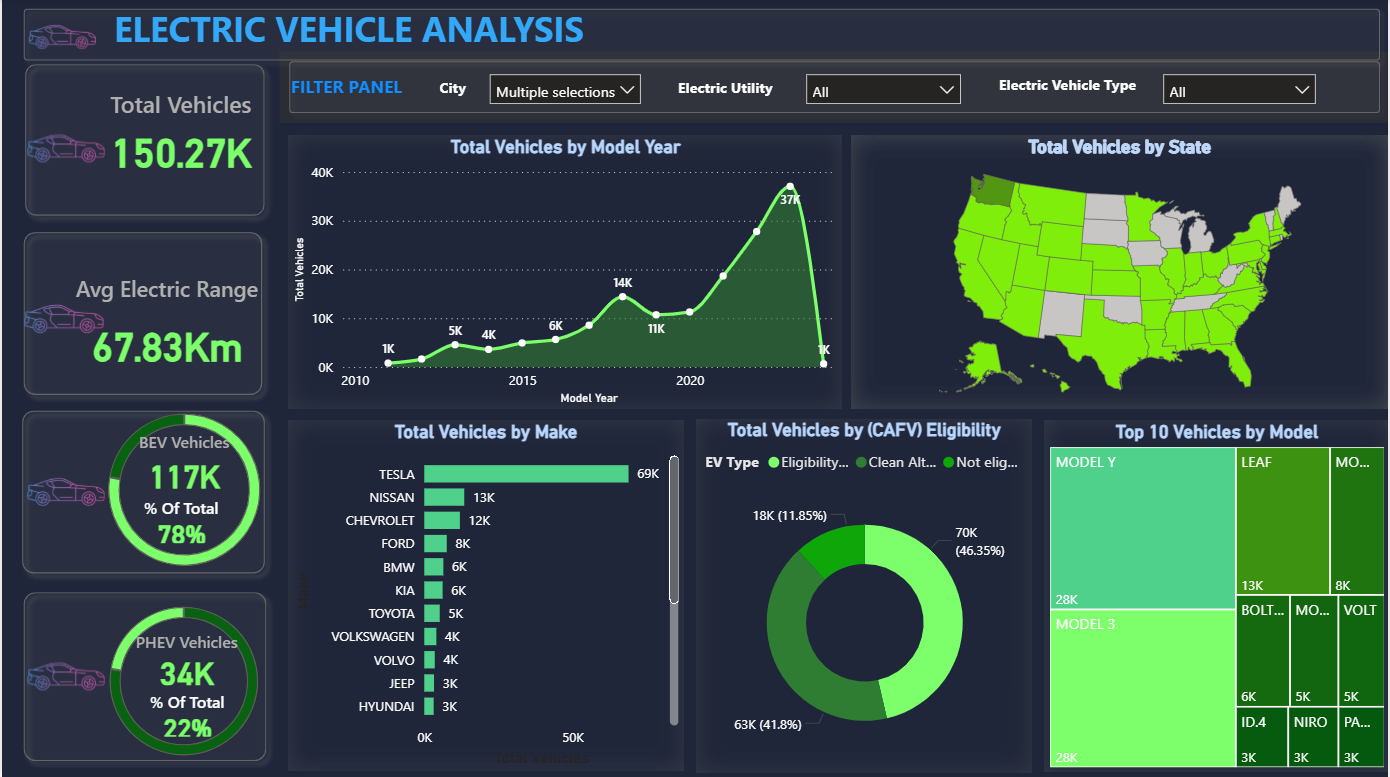

This screenshot's page, from the dashboard's own definition file:
{"tool":"powerbi","page":{"name":"Page 1","canvas":[1280,720],"ordinal":0},"visuals":[{"type":"shape","box":[11.3,206,238.1,168.2],"z":1000},{"type":"shape","box":[11.3,538.6,241.9,173.9],"z":2000},{"type":"shape","box":[9.4,370.4,241.9,168.2],"z":3000},{"type":"shape","box":[12.3,50.6,239,157.8],"z":4000},{"type":"shape","box":[255.8,49,1024.9,65.9],"z":5000},{"type":"lineChart","fields":{"Category":["Electric_Vehicle_Population_Data.Model Year"],"Y":["Electric_Vehicle_Population_Data.Total Vehicles"]},"box":[265,125.6,511.7,252.8],"z":6000},{"type":"shapeMap","fields":{"Category":["Electric_Vehicle_Population_Data.State"],"Value":["Electric_Vehicle_Population_Data.Total Vehicles"]},"box":[784.3,125.6,496.3,252.8],"z":7000},{"type":"barChart","title":"Total Vehicles by Make","fields":{"Y":["Electric_Vehicle_Population_Data.Total Vehicles"],"Category":["Electric_Vehicle_Population_Data.Make"]},"box":[264.6,389.3,364.7,323.2],"z":8000},{"type":"donutChart","title":"Total Vehicles by (CAFV) Eligibility","fields":{"Category":["Electric_Vehicle_Population_Data.Clean Alternative Fuel Vehicle (CAFV) Eligibility"],"Y":["Electric_Vehicle_Population_Data.Total Vehicles"]},"box":[640.6,387.4,309.9,326.9],"z":9000},{"type":"treemap","title":"Top 10 Vehicles by Model","fields":{"Group":["Electric_Vehicle_Population_Data.Model"],"Values":["Electric_Vehicle_Population_Data.Total Vehicles"]},"box":[962,389.1,318.6,324.8],"z":10000},{"type":"card","title":"Total Vehicles","fields":{"Values":["Electric_Vehicle_Population_Data.Total Vehicles"]},"box":[89.7,82.2,150.1,85.8],"z":11000},{"type":"card","title":"Avg Electric Range","fields":{"Values":["Electric_Vehicle_Population_Data.Avg Range"]},"box":[59.7,252.8,185.4,102.6],"z":12000},{"type":"donutChart","title":"Total Vehicles by (CAFV) Eligibility","fields":{"Category":["Electric_Vehicle_Population_Data.Electric Vehicle Type"],"Y":["Electric_Vehicle_Population_Data.Total Vehicles"]},"box":[70.5,360,194.6,185.4],"z":13000},{"type":"card","title":"BEV Vehicles","fields":{"Values":["Electric_Vehicle_Population_Data.BEV Vehicles"]},"box":[119.5,398.3,98,61.3],"z":14000},{"type":"card","title":"% Of Total","fields":{"Values":["Electric_Vehicle_Population_Data.% Of BEV"]},"box":[126.1,460,78.9,48],"z":15000},{"type":"donutChart","title":"Total Vehicles by (CAFV) Eligibility","fields":{"Category":["Electric_Vehicle_Population_Data.Electric Vehicle Type"],"Y":["Electric_Vehicle_Population_Data.Total Vehicles"]},"box":[49.1,538.6,238.1,181.4],"z":16000},{"type":"card","title":"PHEV Vehicles","fields":{"Values":["Electric_Vehicle_Population_Data.PHEV Vehicles"]},"box":[116.3,582.3,108.3,55.7],"z":17000},{"type":"card","title":"% Of Total","fields":{"Values":["Electric_Vehicle_Population_Data.% Of PHEV"]},"box":[131.7,638,78.9,48],"z":18000},{"type":"actionButton","box":[19.2,94.5,79.7,87.3],"z":19000},{"type":"actionButton","box":[18.9,410.6,79.7,87.3],"z":20000},{"type":"actionButton","box":[19.9,582.1,79.7,87.3],"z":21000},{"type":"textbox","box":[98.3,0,463,69.9],"z":22000},{"type":"actionButton","box":[20.8,0,111.5,69.9],"z":23000},{"type":"actionButton","box":[17,251.3,81.3,86.9],"z":24000},{"type":"textbox","box":[262,64.3,163.9,36.8],"z":25000},{"type":"slicer","fields":{"Values":["Electric_Vehicle_Population_Data.City"]},"box":[439.7,59.7,159.3,39.8],"z":26000},{"type":"textbox","box":[398.3,65.9,56.7,33.7],"z":27000},{"type":"shapeMap","fields":{"Category":["Electric_Vehicle_Population_Data.State"],"Value":["Electric_Vehicle_Population_Data.Total Vehicles"]},"box":[783.7,125.6,496.3,252.8],"z":28000},{"type":"slicer","fields":{"Values":["Electric_Vehicle_Population_Data.Electric Utility"]},"box":[732.3,59.7,162.4,39.8],"z":29000},{"type":"textbox","box":[618.9,65.9,113.4,33.7],"z":30000},{"type":"textbox","box":[914.6,64.3,162.4,35.2],"z":31000},{"type":"slicer","fields":{"Values":["Electric_Vehicle_Population_Data.Electric Vehicle Type"]},"box":[1061.6,59.7,160.9,44.4],"z":32000},{"type":"shape","box":[10.7,0,1270,65.9],"z":33000}]}

Visuals, with their boxes in screenshot pixels (x1, y1, x2, y2), scaled from the page's 1280x720 canvas onto the 1390x777 screenshot:
shape: (left=12, top=222, right=271, bottom=404)
shape: (left=12, top=581, right=275, bottom=769)
shape: (left=10, top=400, right=273, bottom=581)
shape: (left=13, top=55, right=273, bottom=225)
shape: (left=278, top=53, right=1389, bottom=124)
lineChart - Electric_Vehicle_Population_Data.Model Year x Electric_Vehicle_Population_Data.Total Vehicles: (left=288, top=136, right=843, bottom=408)
shapeMap - Electric_Vehicle_Population_Data.State x Electric_Vehicle_Population_Data.Total Vehicles: (left=852, top=136, right=1389, bottom=408)
"Total Vehicles by Make" barChart: (left=287, top=420, right=683, bottom=769)
"Total Vehicles by (CAFV) Eligibility" donutChart: (left=696, top=418, right=1032, bottom=771)
"Top 10 Vehicles by Model" treemap: (left=1045, top=420, right=1389, bottom=770)
"Total Vehicles" card: (left=97, top=89, right=260, bottom=181)
"Avg Electric Range" card: (left=65, top=273, right=266, bottom=384)
"Total Vehicles by (CAFV) Eligibility" donutChart: (left=77, top=388, right=288, bottom=589)
"BEV Vehicles" card: (left=130, top=430, right=236, bottom=496)
"% Of Total" card: (left=137, top=496, right=223, bottom=548)
"Total Vehicles by (CAFV) Eligibility" donutChart: (left=53, top=581, right=312, bottom=776)
"PHEV Vehicles" card: (left=126, top=628, right=244, bottom=689)
"% Of Total" card: (left=143, top=689, right=229, bottom=740)
actionButton: (left=21, top=102, right=107, bottom=196)
actionButton: (left=21, top=443, right=107, bottom=537)
actionButton: (left=22, top=628, right=108, bottom=722)
textbox: (left=107, top=0, right=610, bottom=75)
actionButton: (left=23, top=0, right=144, bottom=75)
actionButton: (left=18, top=271, right=107, bottom=365)
textbox: (left=285, top=69, right=463, bottom=109)
slicer - Electric_Vehicle_Population_Data.City: (left=477, top=64, right=650, bottom=107)
textbox: (left=433, top=71, right=494, bottom=107)
shapeMap - Electric_Vehicle_Population_Data.State x Electric_Vehicle_Population_Data.Total Vehicles: (left=851, top=136, right=1389, bottom=408)
slicer - Electric_Vehicle_Population_Data.Electric Utility: (left=795, top=64, right=972, bottom=107)
textbox: (left=672, top=71, right=795, bottom=107)
textbox: (left=993, top=69, right=1170, bottom=107)
slicer - Electric_Vehicle_Population_Data.Electric Vehicle Type: (left=1153, top=64, right=1328, bottom=112)
shape: (left=12, top=0, right=1389, bottom=71)
